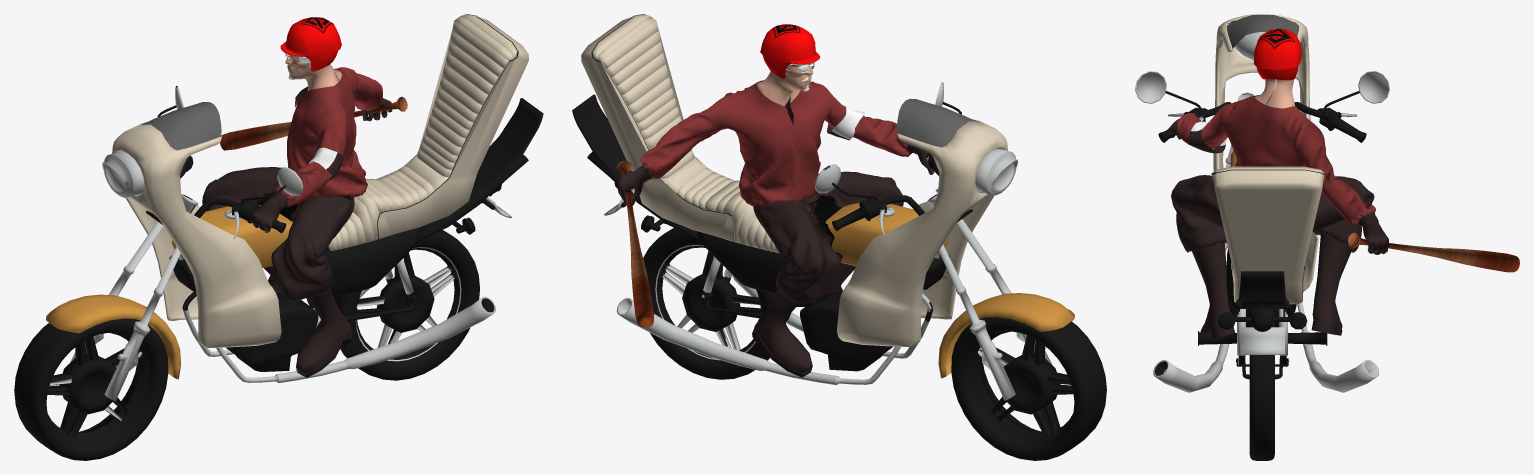
Rendered from M_Bosu_1.FBX.
The picture shows the model from 3 angles, left to right: view 1: azimuth 30°, elevation 25°; view 2: azimuth 150°, elevation 25°; view 3: azimuth 270°, elevation 25°; orthographic projection. The views are drawn at different scales.
Visible parts, largest first — view 1: Object005, Combinaison001; view 2: Object005, Combinaison001; view 3: Object005, Combinaison001.
Part boxes in pixels (bbox=[...]): Object005: bbox=[14, 14, 543, 460]; Combinaison001: bbox=[202, 17, 407, 377]; Object005: bbox=[572, 14, 1106, 460]; Combinaison001: bbox=[616, 24, 934, 377]; Object005: bbox=[1135, 14, 1389, 460]; Combinaison001: bbox=[1168, 28, 1519, 338].
Size of the model in its own units: 24.62 by 17.11 by 15.75.
Materials: 2 (2 with a texture image).
